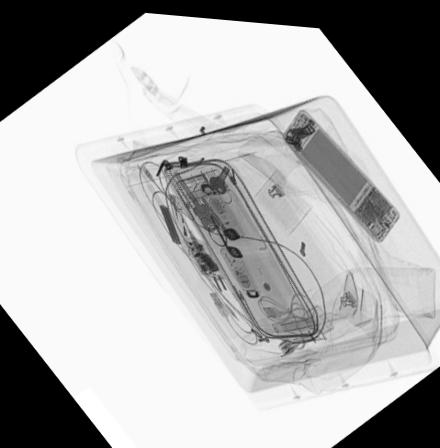Lighter: (168, 191, 193, 253)
